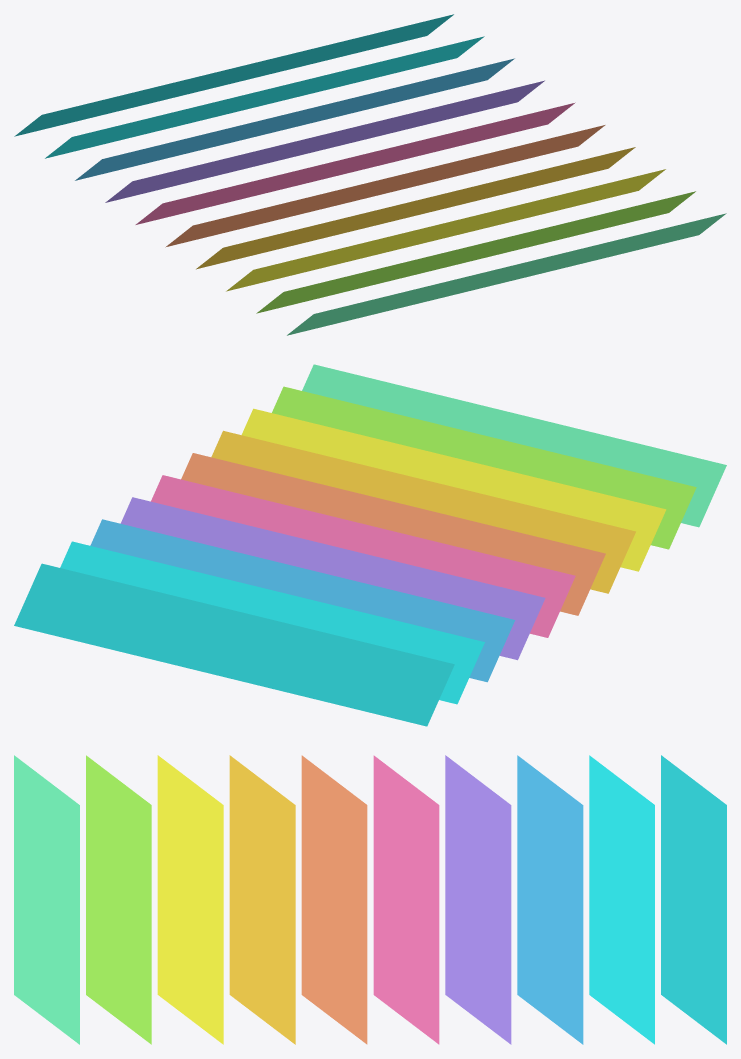
File: The_end_cards.fbx
3 views of the same model, one above another, from view 1: azimuth 30°, elevation 25°; view 2: azimuth 150°, elevation 25°; view 3: azimuth 270°, elevation 25° (orthographic). The views are drawn at different scales.
Visible parts, largest first — view 1: Cube.006, Cube.007, Cube.002, Cube.001, Cube.004, Cube.005, Cube.009, Cube.010, Cube.003, Cube.011; view 2: Cube.001, Cube.010, Cube.004, Cube.006, Cube.002, Cube.009, Cube.007, Cube.005, Cube.011, Cube.003; view 3: Cube.005, Cube.006, Cube.007, Cube.009, Cube.004, Cube.010, Cube.002, Cube.001, Cube.003, Cube.011.
Boxes of the visible parts, <box> form: Cube.006: <box>135,102,575,224</box>; Cube.007: <box>165,125,605,247</box>; Cube.002: <box>287,213,726,335</box>; Cube.001: <box>14,14,453,136</box>; Cube.004: <box>75,58,514,180</box>; Cube.005: <box>105,80,544,202</box>; Cube.009: <box>196,147,635,269</box>; Cube.010: <box>226,169,665,291</box>; Cube.003: <box>45,36,484,158</box>; Cube.011: <box>256,191,695,313</box>; Cube.001: <box>14,563,454,726</box>; Cube.010: <box>241,408,666,571</box>; Cube.004: <box>90,519,515,682</box>; Cube.006: <box>151,475,575,637</box>; Cube.002: <box>302,364,726,527</box>; Cube.009: <box>211,430,635,593</box>; Cube.007: <box>181,453,605,615</box>; Cube.005: <box>120,497,545,660</box>; Cube.011: <box>272,386,696,549</box>; Cube.003: <box>60,541,484,704</box>; Cube.005: <box>445,755,511,1044</box>; Cube.006: <box>373,755,439,1044</box>; Cube.007: <box>301,755,367,1044</box>; Cube.009: <box>229,755,295,1044</box>; Cube.004: <box>517,755,583,1044</box>; Cube.010: <box>157,755,223,1044</box>; Cube.002: <box>14,755,79,1044</box>; Cube.001: <box>661,755,726,1044</box>; Cube.003: <box>589,755,654,1044</box>; Cube.011: <box>86,755,151,1044</box>.
Bounding box in the file's own units: 3 × 0.2925 × 3.78.
Materials: 1 (1 with a texture image).
